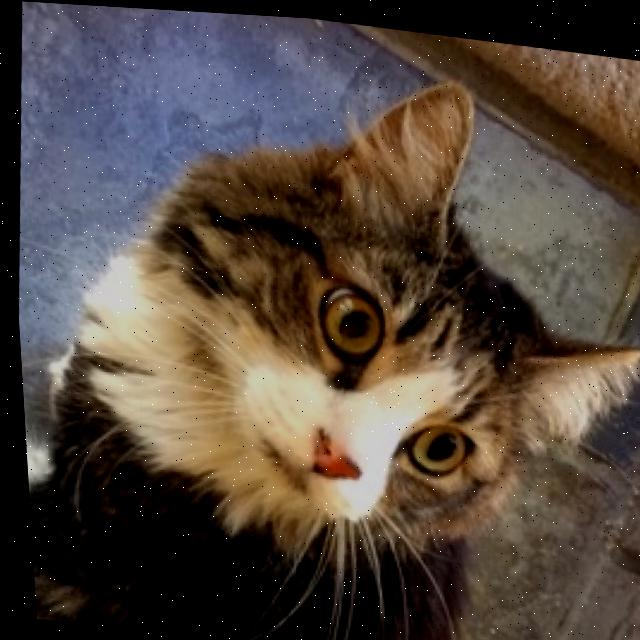Maine Coon: (1, 16, 640, 640)
